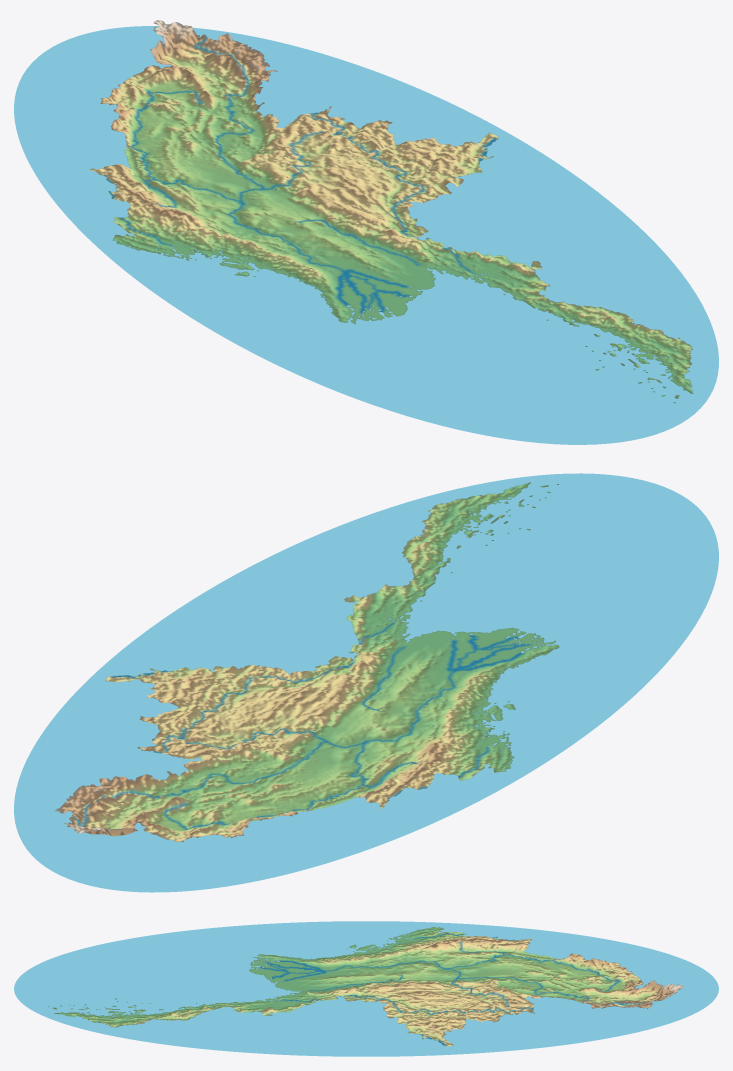
File: MMR-terrain.glb
3 views of the same model, one above another, from view 1: azimuth 30°, elevation 25°; view 2: azimuth 150°, elevation 25°; view 3: azimuth 270°, elevation 25° (orthographic). The views are drawn at different scales.
Parts seen in each view (by area): view 1: Relevo com hidrografia; view 2: Relevo com hidrografia; view 3: Relevo com hidrografia.
Boxes of the visible parts, left/top/right/bottom form: Relevo com hidrografia: left=14, top=20, right=718, bottom=444; Relevo com hidrografia: left=14, top=473, right=718, bottom=892; Relevo com hidrografia: left=14, top=921, right=718, bottom=1056.
Bounding box in the file's own units: 0.8064 × 0.0426 × 1.77.
2 materials, 1 textured.
